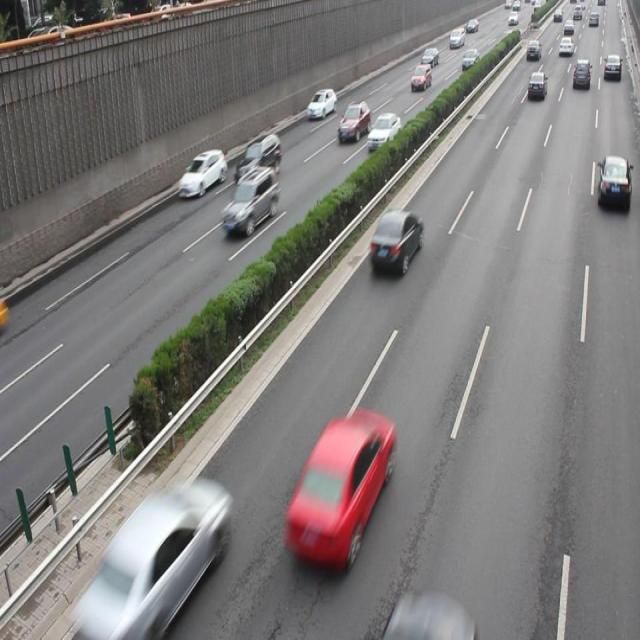car: (76, 479, 226, 640), (286, 408, 395, 564), (383, 588, 475, 640), (222, 164, 280, 235), (368, 210, 423, 270), (177, 146, 228, 198), (235, 133, 281, 185), (595, 154, 630, 210), (366, 111, 400, 152), (337, 102, 369, 140), (306, 87, 336, 120)
